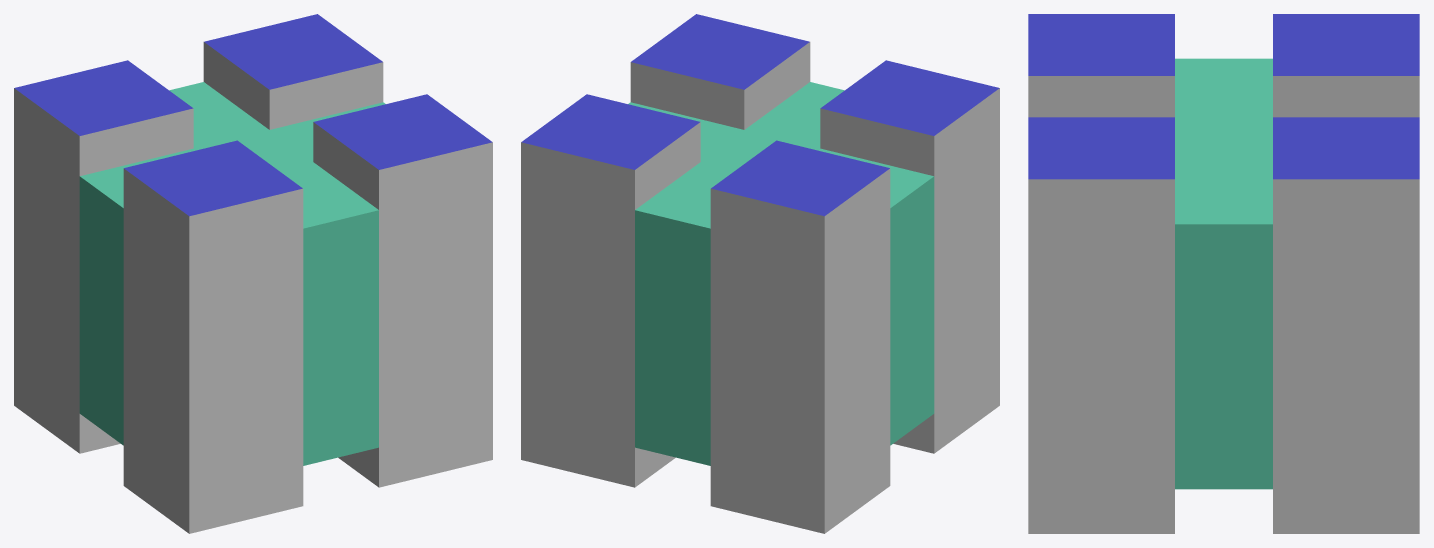
File: multi-material-cube 2.fbx
The picture shows the model from 3 angles, left to right: view 1: azimuth 30°, elevation 25°; view 2: azimuth 150°, elevation 25°; view 3: azimuth 270°, elevation 25°; orthographic projection. The views are drawn at different scales.
Parts seen in each view (by area): view 1: LoadingCube; view 2: LoadingCube; view 3: LoadingCube.
Part boxes in pixels (left/top/right/bottom): LoadingCube: left=14, top=14, right=492, bottom=533; LoadingCube: left=521, top=14, right=999, bottom=533; LoadingCube: left=1028, top=14, right=1419, bottom=533.
Bounding box in the file's own units: 200 × 200 × 200.
